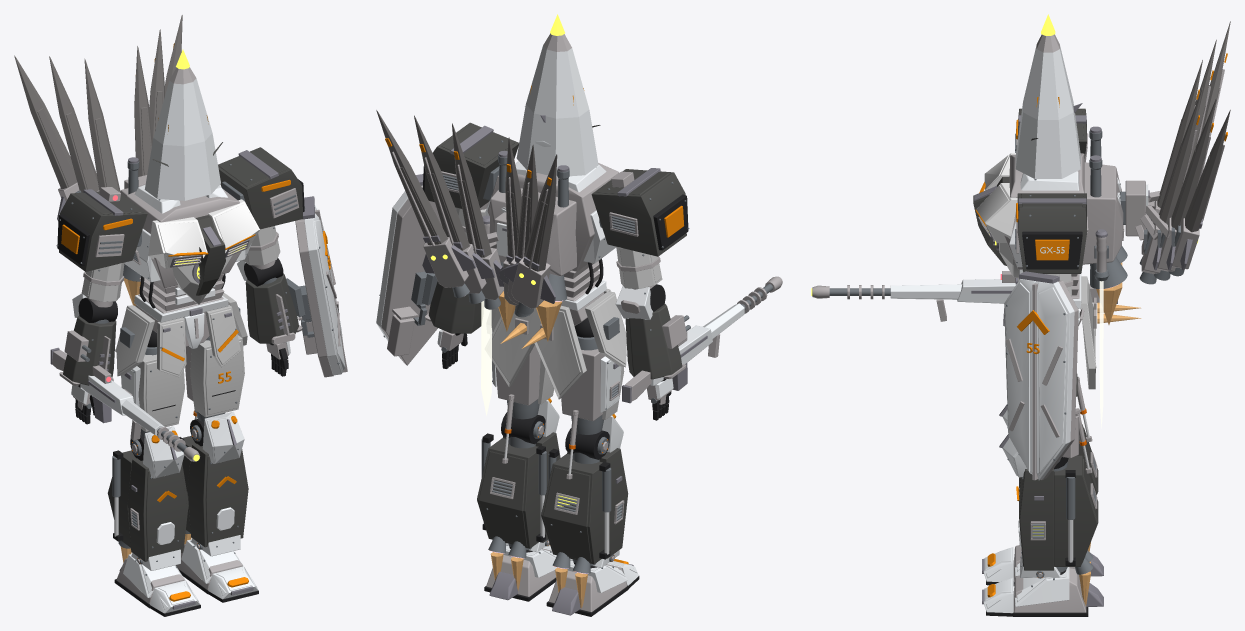
File: MGSUGE_Vesper_Mech.fbx
3 views of the same model, side by side, from view 1: azimuth 30°, elevation 25°; view 2: azimuth 150°, elevation 25°; view 3: azimuth 270°, elevation 25° (orthographic). The views are drawn at different scales.
Parts seen in each view (by area): view 1: Torso_Mesh, Knee_R_Mesh, Knee_L_Mesh, Shoulder_R_Mesh, Nose_Mesh, Shoulder_L_Mesh, Shield_Mesh, Elbow_L_Mesh, Elbow_R_Mesh, Hip_L_Mesh, Rifle_Mesh, Hip_R_Mesh (+16 smaller); view 2: Knee_R_Mesh, Knee_L_Mesh, Shoulder_R_Mesh, Nose_Mesh, Shield_Mesh, Elbow_R_Mesh, Skirt_Back_Mesh, Pack_Mesh, Probe_3_Mesh, Hip_R_Mesh, Torso_Mesh, Shoulder_L_Mesh (+16 smaller); view 3: Shield_Mesh, Knee_L_Mesh, Nose_Mesh, Pack_Mesh, Shoulder_L_Mesh, Torso_Mesh, Rifle_Mesh, Ankle_L_Mesh, Probe_3_Mesh, Probe_1_Mesh, Probe_2_Mesh, Skirt_Back_Mesh (+10 smaller).
Boxes of the visible parts, x1,y1,x2,y2 form: Torso_Mesh: (124, 181, 259, 308); Knee_R_Mesh: (107, 426, 188, 570); Knee_L_Mesh: (179, 411, 248, 556); Shoulder_R_Mesh: (56, 187, 147, 307); Nose_Mesh: (144, 67, 220, 200); Shoulder_L_Mesh: (218, 147, 305, 269); Shield_Mesh: (295, 196, 347, 377); Elbow_L_Mesh: (237, 258, 305, 345); Elbow_R_Mesh: (59, 293, 117, 387); Hip_L_Mesh: (185, 335, 244, 422); Rifle_Mesh: (50, 347, 200, 461); Hip_R_Mesh: (121, 347, 184, 436); Knee_R_Mesh: (541, 414, 628, 573); Knee_L_Mesh: (477, 398, 560, 558); Shoulder_R_Mesh: (591, 168, 689, 289); Nose_Mesh: (516, 33, 598, 177); Shield_Mesh: (376, 174, 442, 365); Elbow_R_Mesh: (615, 284, 690, 381); Skirt_Back_Mesh: (492, 305, 586, 399); Pack_Mesh: (489, 150, 576, 301); Probe_3_Mesh: (376, 110, 476, 297); Hip_R_Mesh: (561, 336, 624, 479); Torso_Mesh: (483, 161, 618, 294); Shoulder_L_Mesh: (422, 122, 518, 238); Shield_Mesh: (1004, 271, 1078, 480); Knee_L_Mesh: (999, 434, 1098, 578); Nose_Mesh: (1015, 34, 1080, 178); Pack_Mesh: (1082, 126, 1174, 289); Shoulder_L_Mesh: (1015, 193, 1088, 296); Torso_Mesh: (973, 153, 1084, 277); Rifle_Mesh: (811, 271, 1117, 326); Ankle_L_Mesh: (1012, 567, 1103, 616); Probe_3_Mesh: (1168, 109, 1230, 276); Probe_1_Mesh: (1139, 88, 1202, 284); Probe_2_Mesh: (1154, 98, 1216, 280); Skirt_Back_Mesh: (1080, 276, 1096, 389).
Bounding box in the file's own units: 7.64 × 14.19 × 9.31.
